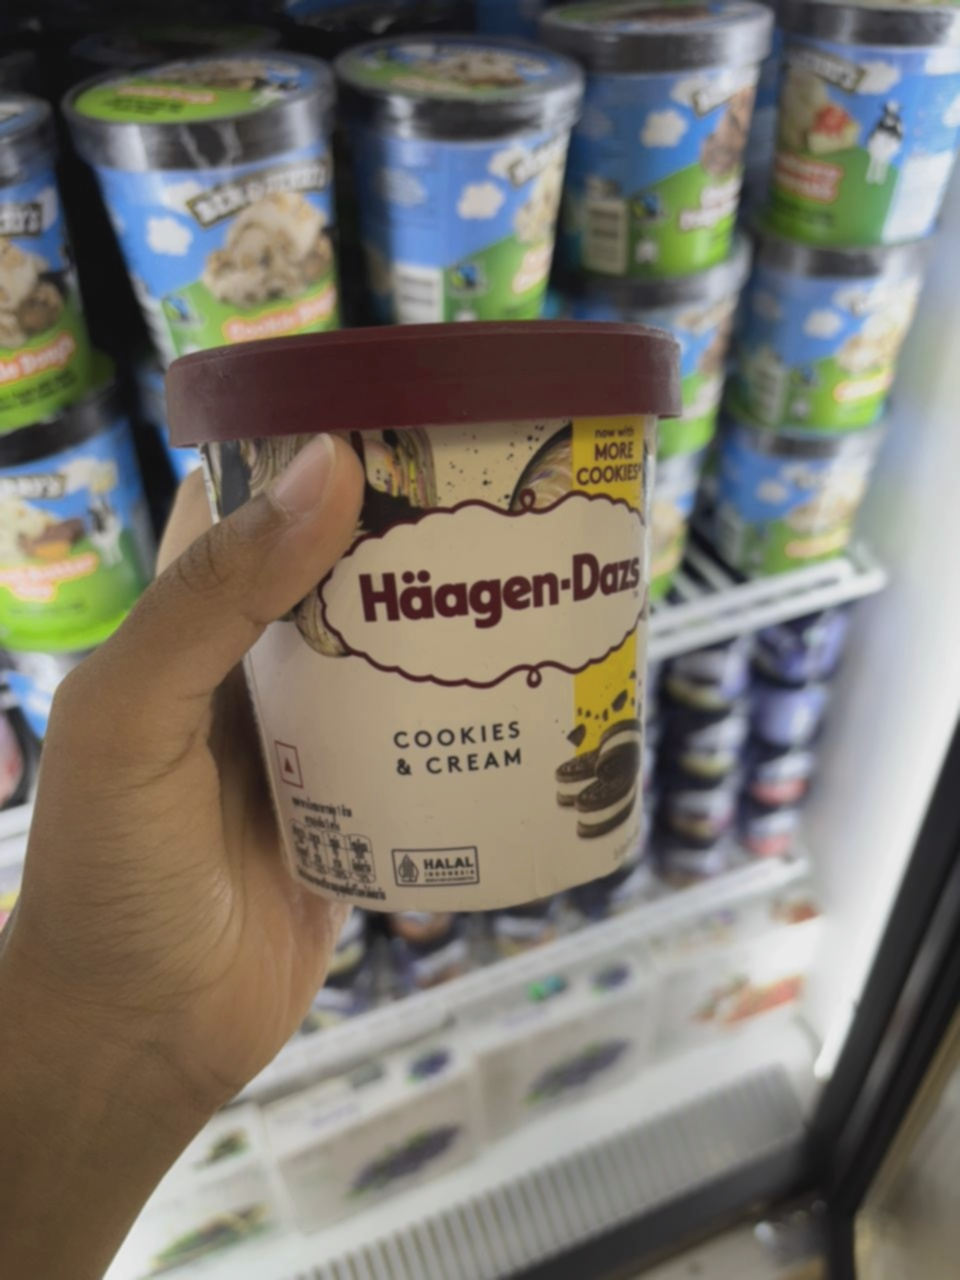Haagen-Dazs IceCream Tub: (154, 312, 705, 948)
